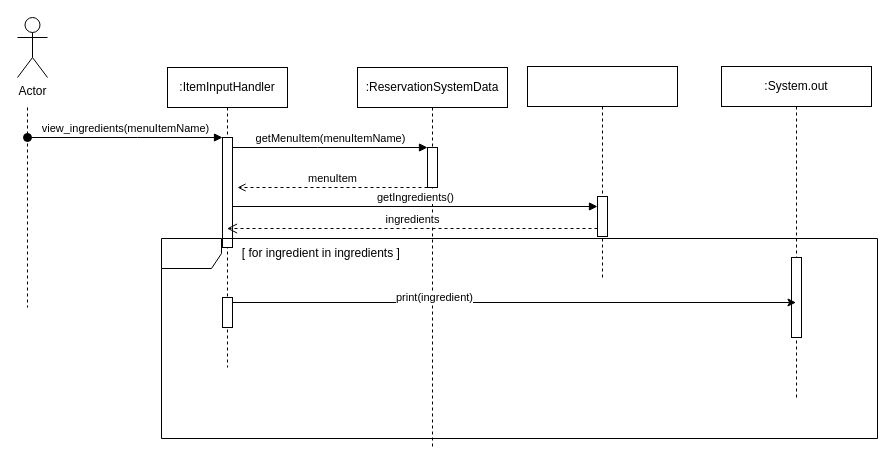
Some shapes in this 895 by 465 pixel diagram are drawn without their labels. Here are the shapes that lost their labels. From the top down, the box of each, then its label:
(526, 66, 678, 278): :MenuItem
(160, 238, 878, 438): loop
